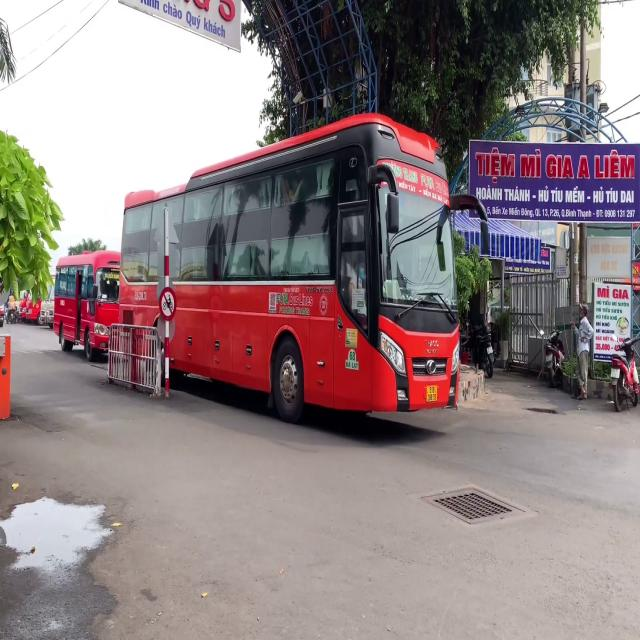bien_vang: (426, 385, 438, 404)
